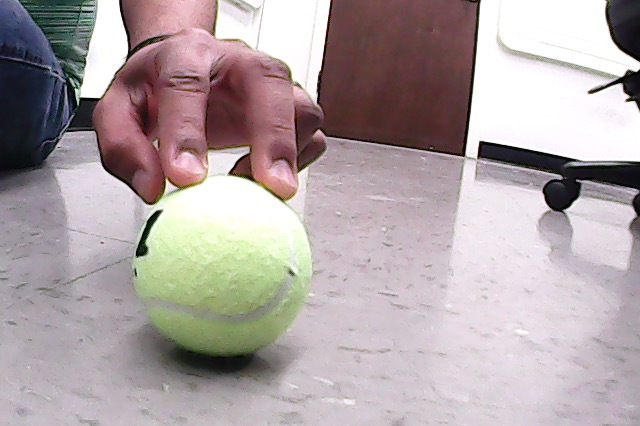ball: (130, 172, 317, 362)
